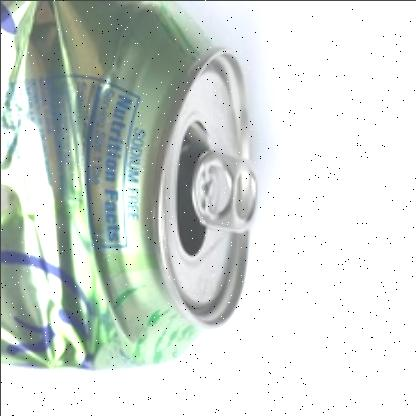Can: (0, 0, 256, 372)
